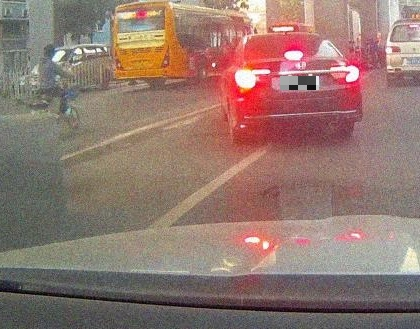L_light: (234, 69, 270, 89), (114, 50, 125, 71)
R_light: (330, 65, 359, 83), (160, 45, 170, 68)
T_light: (284, 50, 304, 58), (133, 28, 146, 32)
day-left: (234, 32, 362, 143)
day-no: (111, 0, 178, 88)
plate_1: (280, 76, 319, 90)
